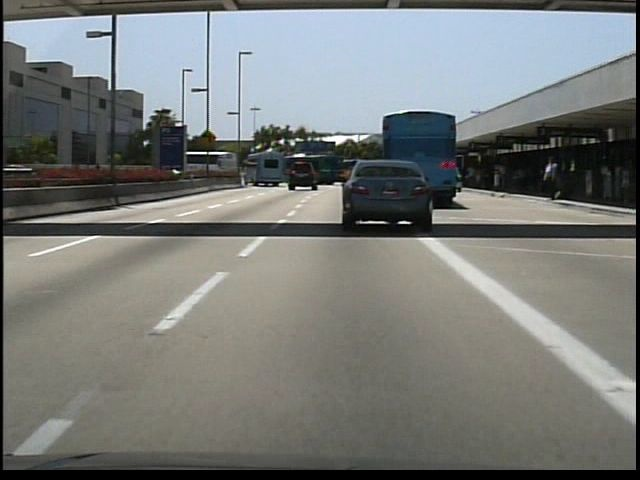person: (541, 154, 562, 202)
